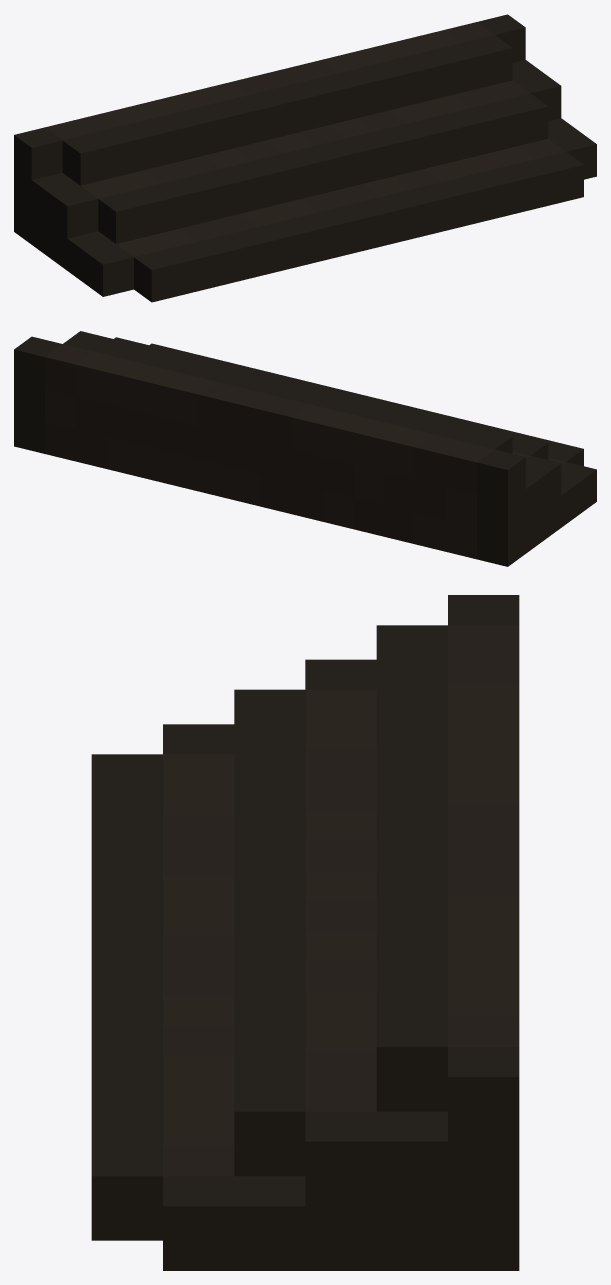
File: tavern-73-floor_stepwood.obj
3 renders of one model, top to bottom at view 1: azimuth 30°, elevation 25°; view 2: azimuth 150°, elevation 25°; view 3: azimuth 270°, elevation 25°, orthographic. The views are drawn at different scales.
Parts seen in each view (by area): view 1: floor_stepwood; view 2: floor_stepwood; view 3: floor_stepwood.
Boxes of the visible parts, <box> form: floor_stepwood: <box>14,14,596,302</box>; floor_stepwood: <box>14,331,596,566</box>; floor_stepwood: <box>91,595,519,1270</box>.
Bounding box in the file's own units: 1.6 × 0.3 × 0.6.
1 material, 1 textured.
